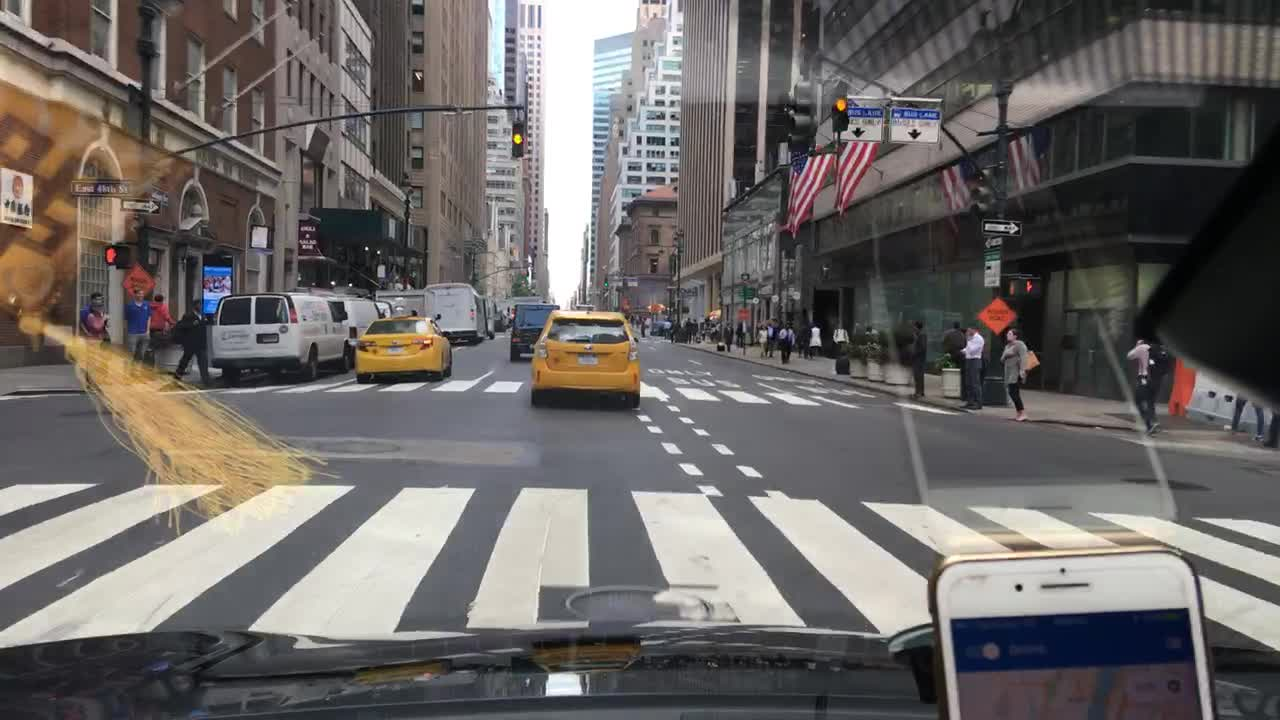car: (208, 289, 351, 380), (529, 311, 642, 407), (352, 312, 450, 381), (508, 302, 560, 359), (328, 295, 390, 338), (577, 303, 593, 314)
person: (1125, 332, 1176, 433), (169, 300, 212, 389), (1001, 326, 1038, 422), (79, 293, 113, 394), (125, 288, 150, 379), (1219, 391, 1263, 438), (960, 325, 980, 410), (908, 317, 927, 398), (149, 293, 175, 342), (945, 322, 965, 361), (1260, 410, 1279, 449), (736, 319, 755, 348), (753, 325, 767, 363), (866, 324, 880, 360), (796, 325, 809, 360), (807, 324, 822, 354), (833, 322, 846, 356), (683, 318, 697, 342), (721, 324, 733, 350), (766, 324, 775, 354), (658, 317, 671, 336), (631, 313, 642, 328), (712, 322, 721, 340), (678, 318, 685, 337)
traffic light: (787, 83, 818, 149), (968, 167, 995, 222), (831, 94, 849, 134), (508, 118, 525, 157), (1012, 280, 1043, 296), (105, 244, 123, 266), (516, 270, 530, 284), (600, 276, 611, 288)
traffic sign: (834, 106, 885, 141), (891, 108, 936, 143), (977, 300, 1016, 332), (123, 264, 154, 299), (71, 178, 137, 194), (981, 218, 1023, 234), (984, 252, 998, 287), (119, 199, 161, 210), (737, 270, 755, 285), (733, 308, 751, 320), (986, 238, 1004, 248), (739, 288, 753, 300), (624, 279, 639, 287)
truck: (424, 284, 491, 342), (380, 289, 425, 318), (507, 295, 540, 321), (492, 300, 508, 331)
